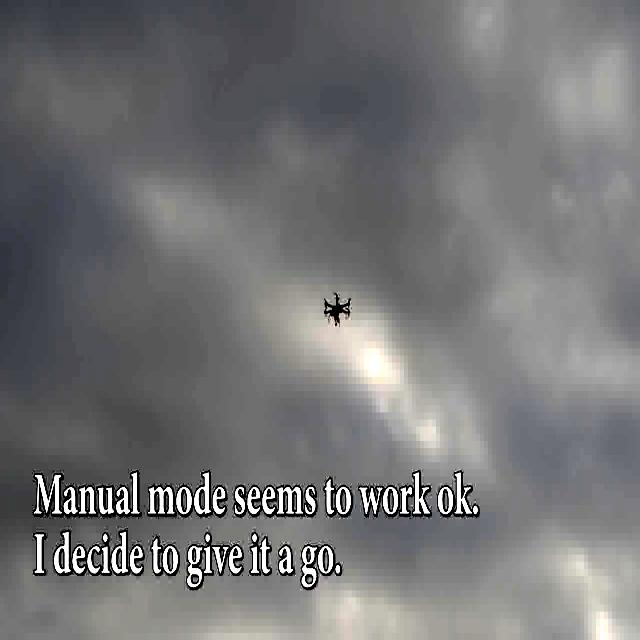drone: (320, 286, 353, 331)
